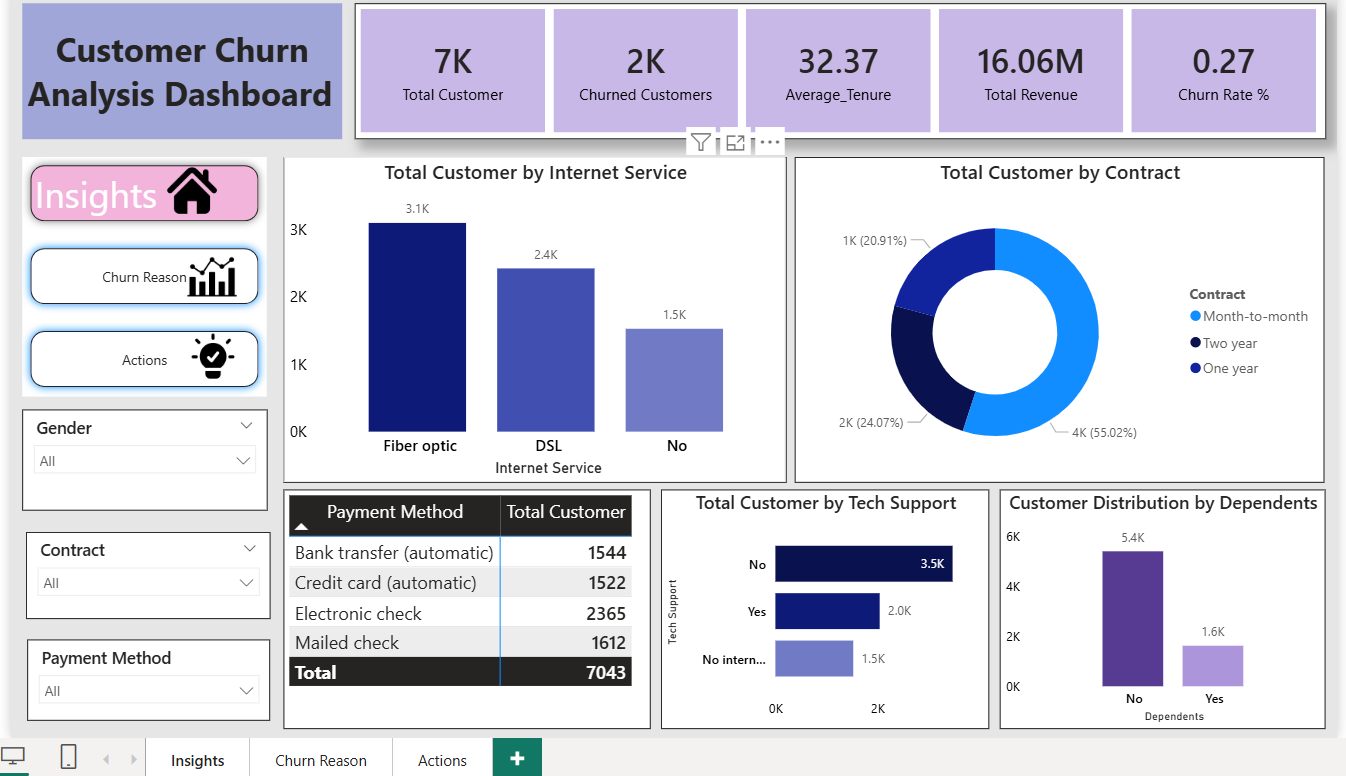

Layout of this report page (visuals, bound fields, positions):
{"tool":"powerbi","page":{"name":"Insights","canvas":[1280,720],"ordinal":0},"visuals":[{"type":"textbox","box":[10.9,10.9,308.8,131.5],"z":0},{"type":"cardVisual","fields":{"Data":["Telco_Churn.Total Customer","Telco_Churn.Churned Customers","Telco_Churn.Average_Tenure","Telco_Churn.Total Revenue","Telco_Churn.Churn Rate %"]},"box":[331.8,10.9,937.4,131.5],"z":1000},{"type":"donutChart","fields":{"Category":["Telco_Churn.Contract"],"Y":["Telco_Churn.Total Customer"]},"box":[756.9,159,511.1,314.3],"z":2000},{"type":"clusteredColumnChart","fields":{"Y":["Telco_Churn.Total Customer"],"Category":["Telco_Churn.Internet Service"]},"box":[262.9,159,485.5,314.3],"z":3000},{"type":"pageNavigator","box":[11,159,236,231.1],"z":4000},{"type":"clusteredColumnChart","title":"Customer Distribution by Dependents","fields":{"Y":["Telco_Churn.Total Customer"],"Category":["Telco_Churn.Dependents"]},"box":[953.8,480.6,314.3,231.1],"z":5000},{"type":"pivotTable","fields":{"Rows":["Telco_Churn.Payment Method"],"Values":["Telco_Churn.Total Customer"]},"box":[262.9,480.6,354.6,231.1],"z":6000},{"type":"barChart","fields":{"Y":["Telco_Churn.Total Customer"],"Category":["Telco_Churn.Tech Support"]},"box":[627.3,480.6,316.7,231.1],"z":7000},{"type":"image","box":[143.6,167.7,62.7,48.3],"z":8000},{"type":"slicer","fields":{"Values":["Telco_Churn.Gender"]},"box":[10.9,403,236.5,97.7],"z":9000},{"type":"slicer","fields":{"Values":["Telco_Churn.Contract"]},"box":[14.7,520.9,236,84.4],"z":10000},{"type":"slicer","fields":{"Values":["Telco_Churn.Payment Method"]},"box":[15.9,624.9,234.8,78.3],"z":11000},{"type":"image","box":[162.6,250.7,62.4,47.7],"z":12000},{"type":"image","box":[159,327.7,70.9,47.7],"z":13000}]}

Visuals, with their boxes in screenshot pixels (x1, y1, x2, y2):
textbox: x1=18, y1=1, x2=339, y2=137
cardVisual - Telco_Churn.Total Customer x Telco_Churn.Churned Customers: x1=351, y1=1, x2=1323, y2=137
donutChart - Telco_Churn.Contract x Telco_Churn.Total Customer: x1=792, y1=154, x2=1322, y2=480
clusteredColumnChart - Telco_Churn.Total Customer x Telco_Churn.Internet Service: x1=280, y1=154, x2=783, y2=480
pageNavigator: x1=18, y1=154, x2=263, y2=394
"Customer Distribution by Dependents" clusteredColumnChart: x1=996, y1=488, x2=1322, y2=728
pivotTable - Telco_Churn.Payment Method x Telco_Churn.Total Customer: x1=280, y1=488, x2=647, y2=728
barChart - Telco_Churn.Total Customer x Telco_Churn.Tech Support: x1=658, y1=488, x2=986, y2=728
image: x1=156, y1=163, x2=221, y2=213
slicer - Telco_Churn.Gender: x1=18, y1=407, x2=264, y2=509
slicer - Telco_Churn.Contract: x1=22, y1=530, x2=267, y2=617
slicer - Telco_Churn.Payment Method: x1=23, y1=638, x2=267, y2=719
image: x1=176, y1=249, x2=240, y2=299
image: x1=172, y1=329, x2=245, y2=379
